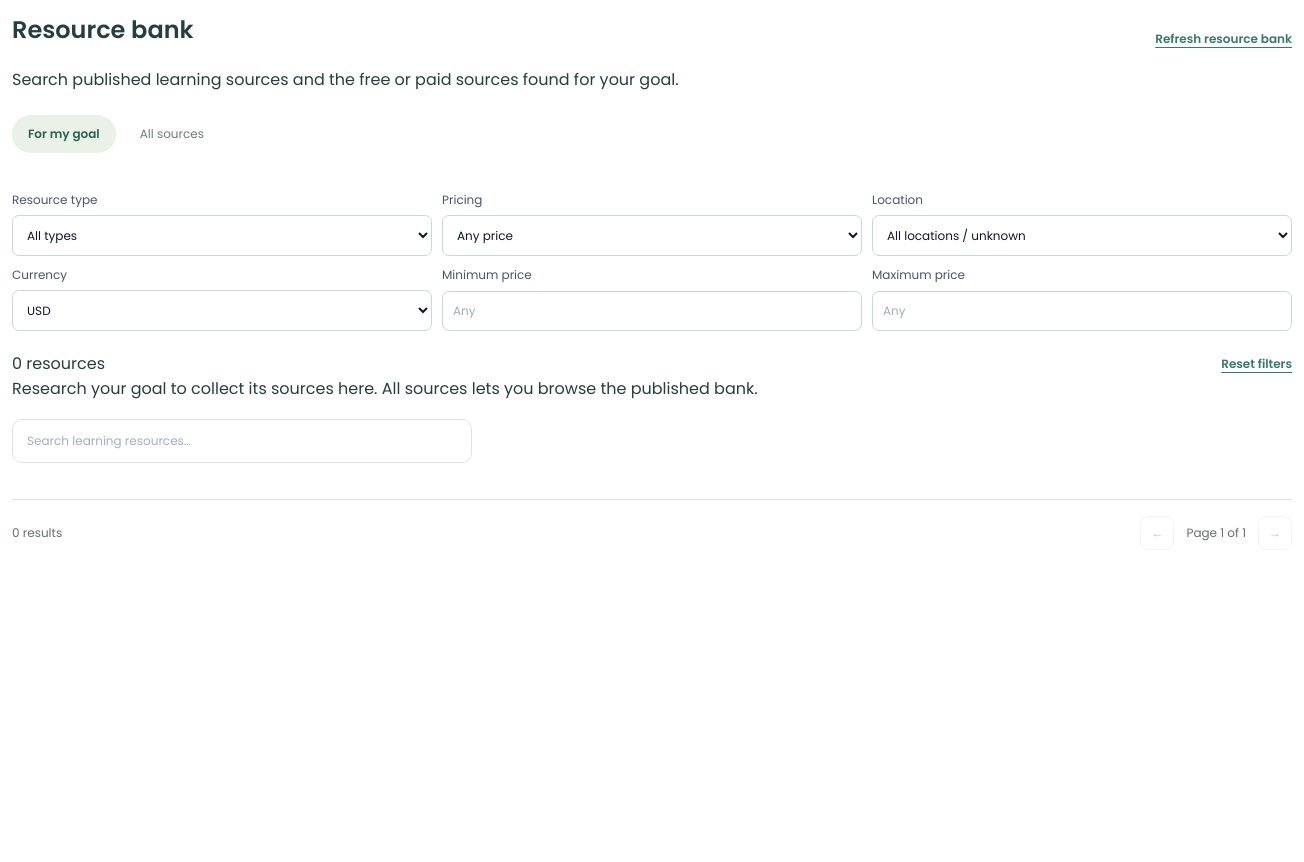
library filters known paid amounts and compares resource skills with recorded goal evidence
Click the button "All sources" at (172, 134), box [124,115,220,153]
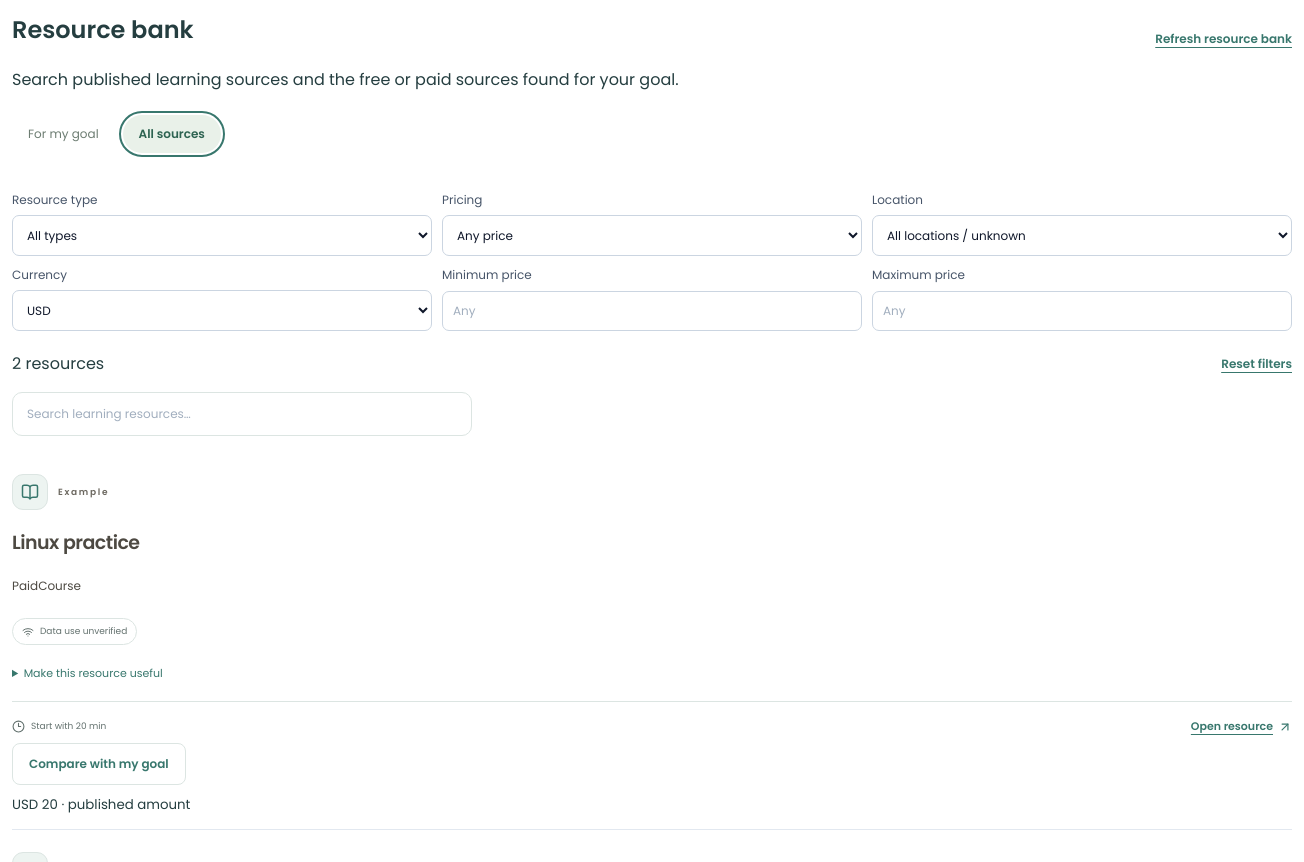
Expected: the heading "Linux practice" is shown, [12,529,140,556]
Select "Paid" in the dropdown labelled "Pricing" at (652, 236), box [442,215,862,256]
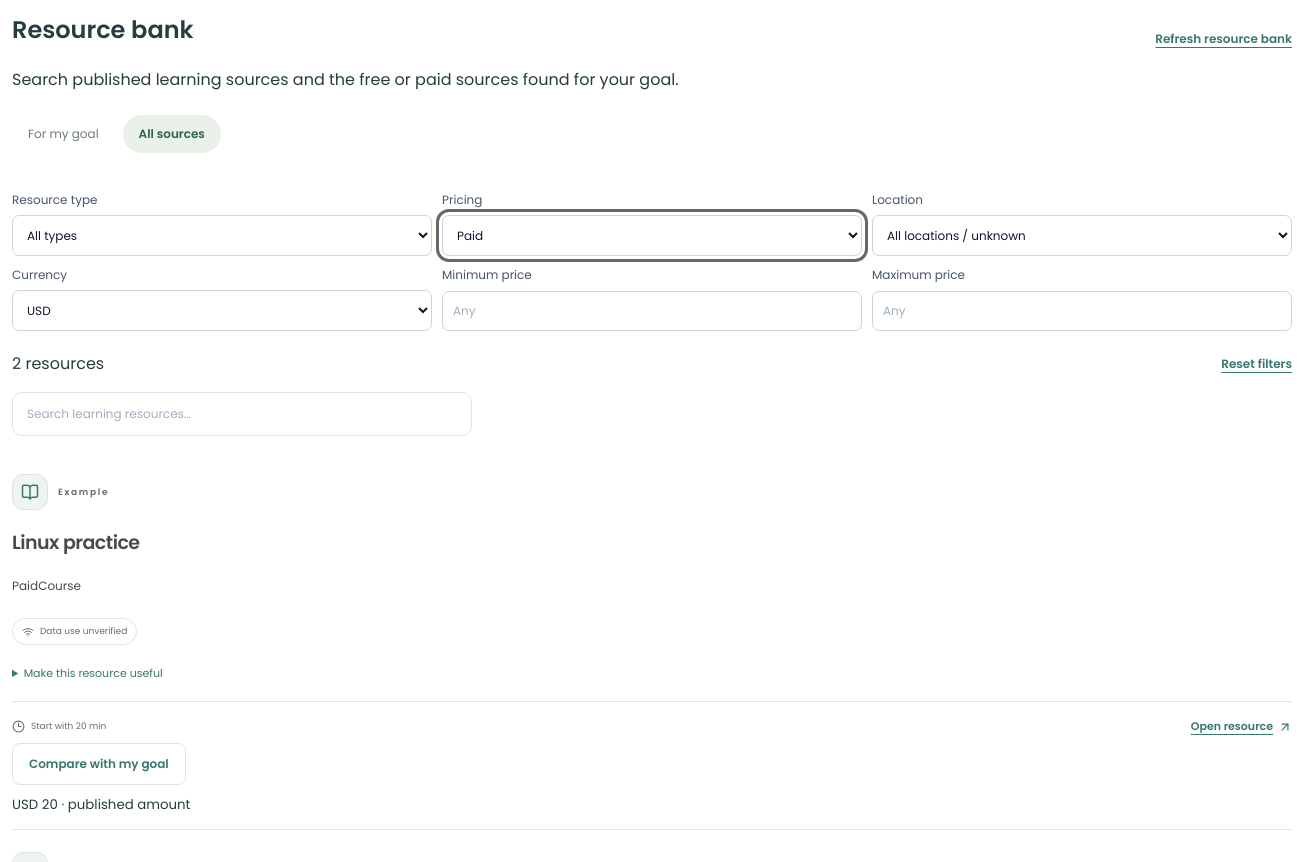
Type "10" into the number field labelled "Minimum price" at (652, 311), box [442,291,862,331]
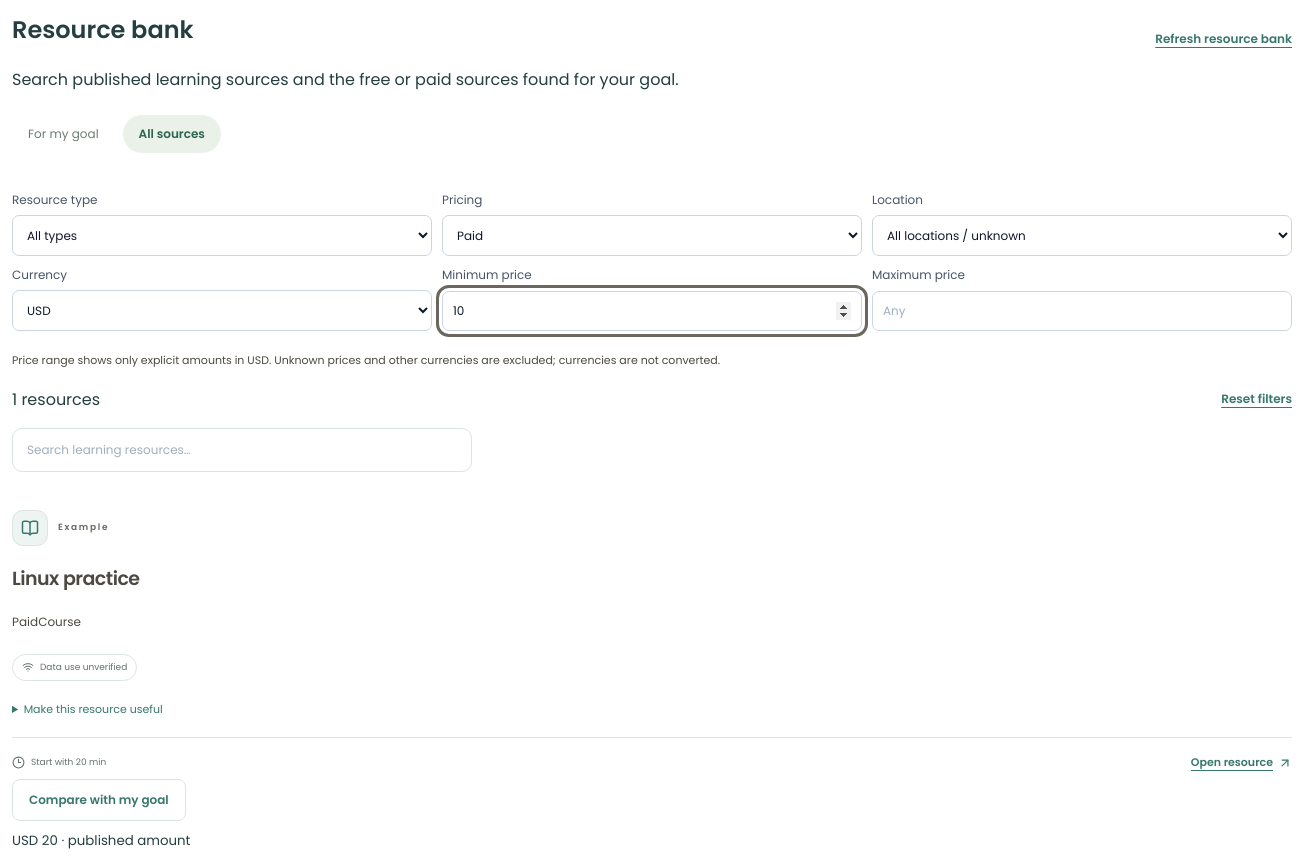
Type "30" into the number field labelled "Maximum price" at (1082, 311), box [872,291,1292,331]
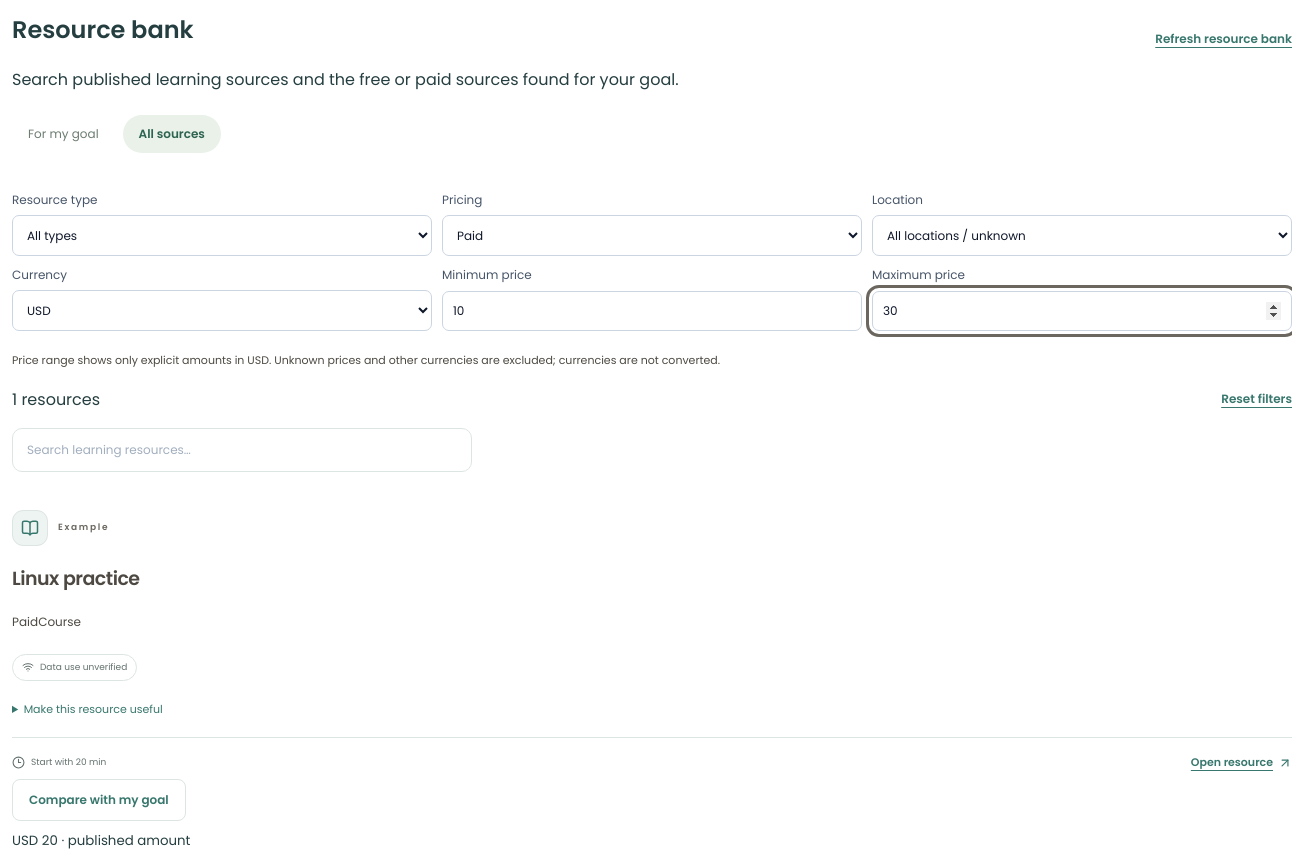
Expected: the heading "Unknown fee course" is not shown
Click the button "Compare with my goal" at (99, 800), box [12,779,186,821]
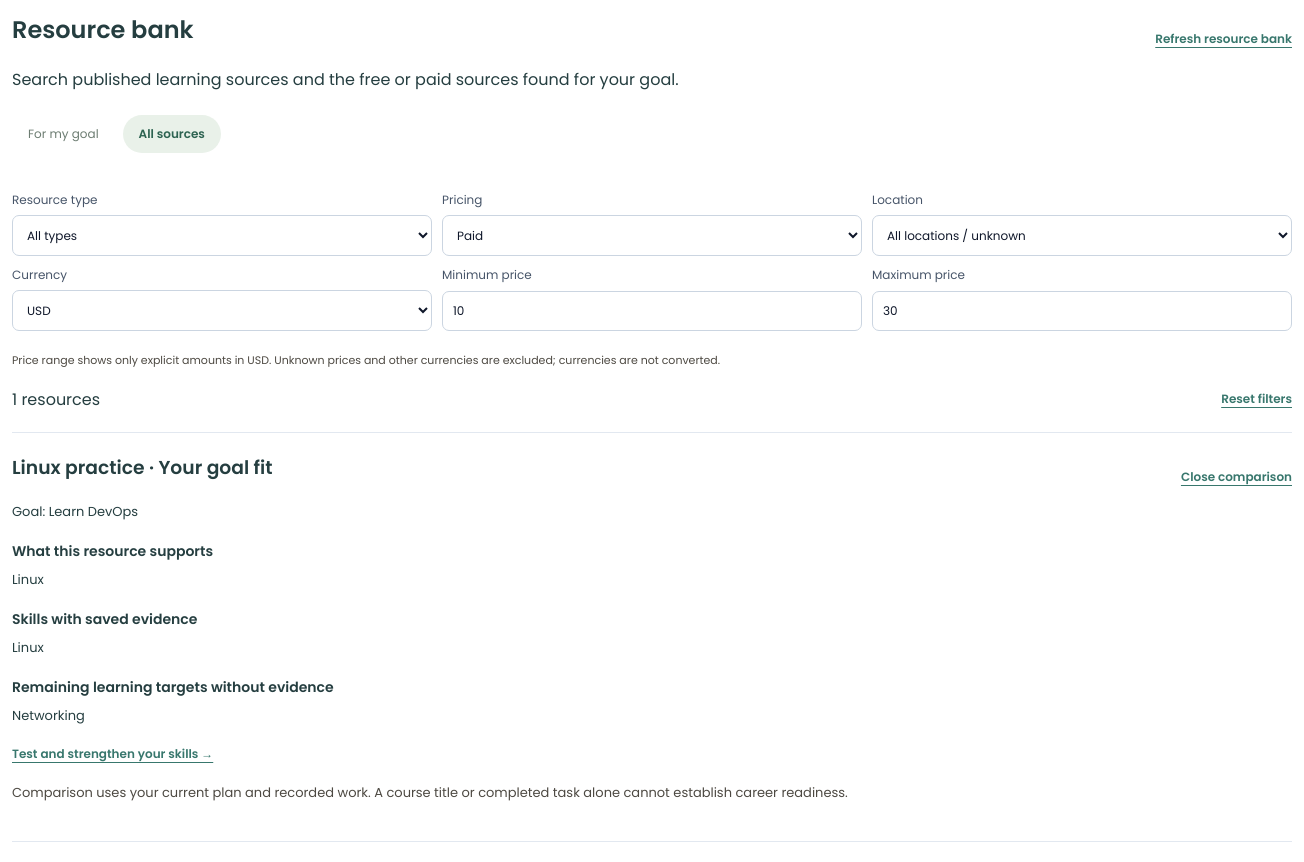
Expected: the text "Networking" is shown, [12,706,85,725]
Expected: the 1st text "Linux" is shown, [12,570,44,589]
